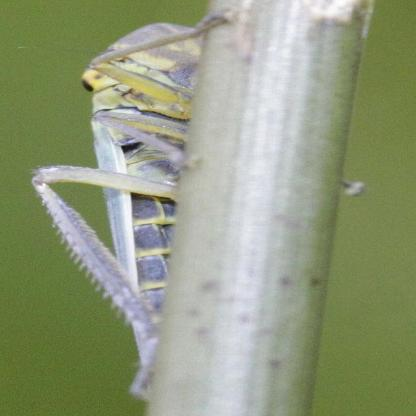Green-Leafhopper: (31, 10, 243, 416)
